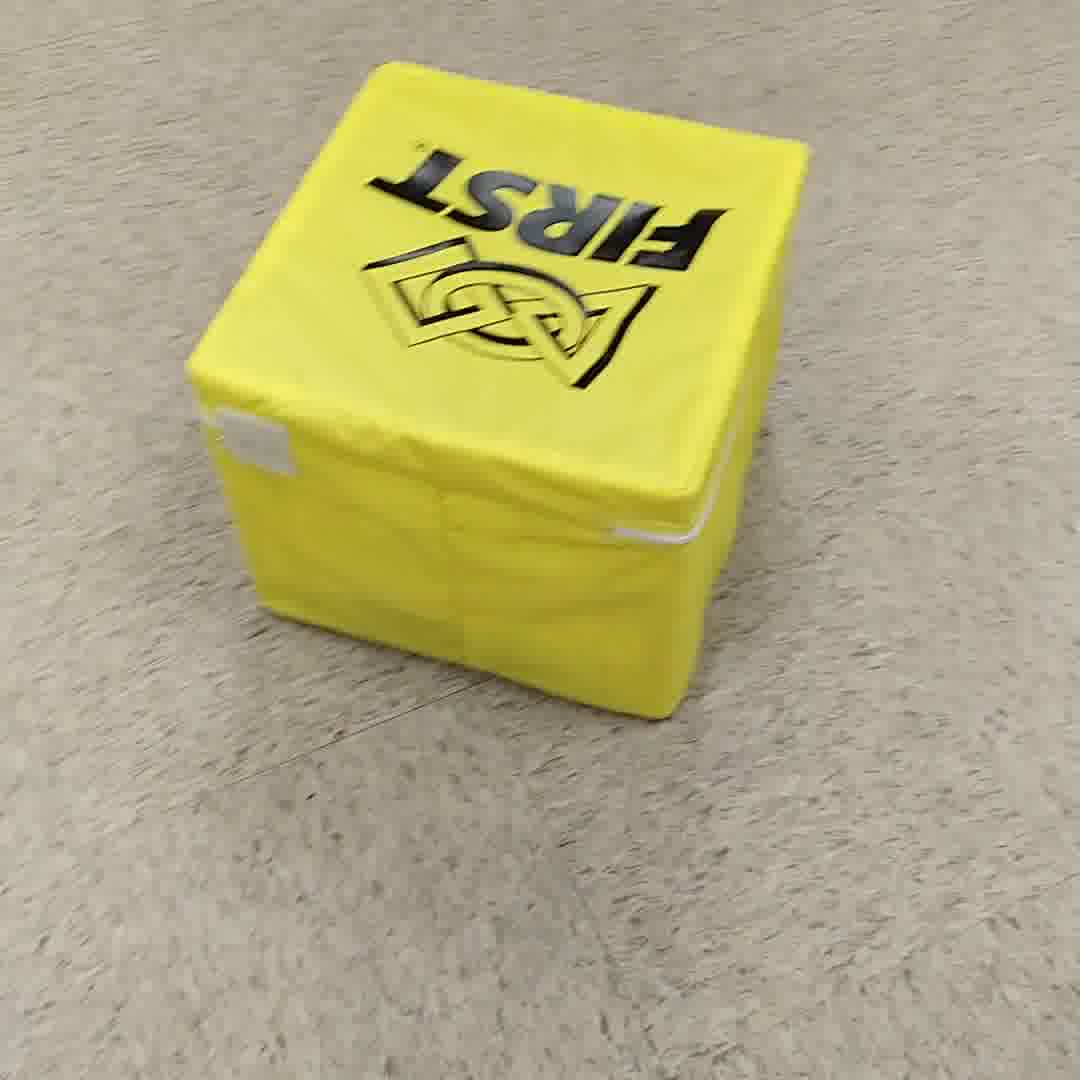box: (167, 60, 805, 733)
